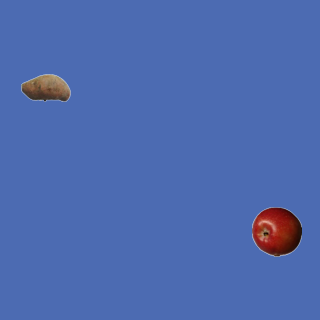Apple Braeburn: (251, 206, 301, 256)
Potato Sweet: (20, 62, 70, 112)
